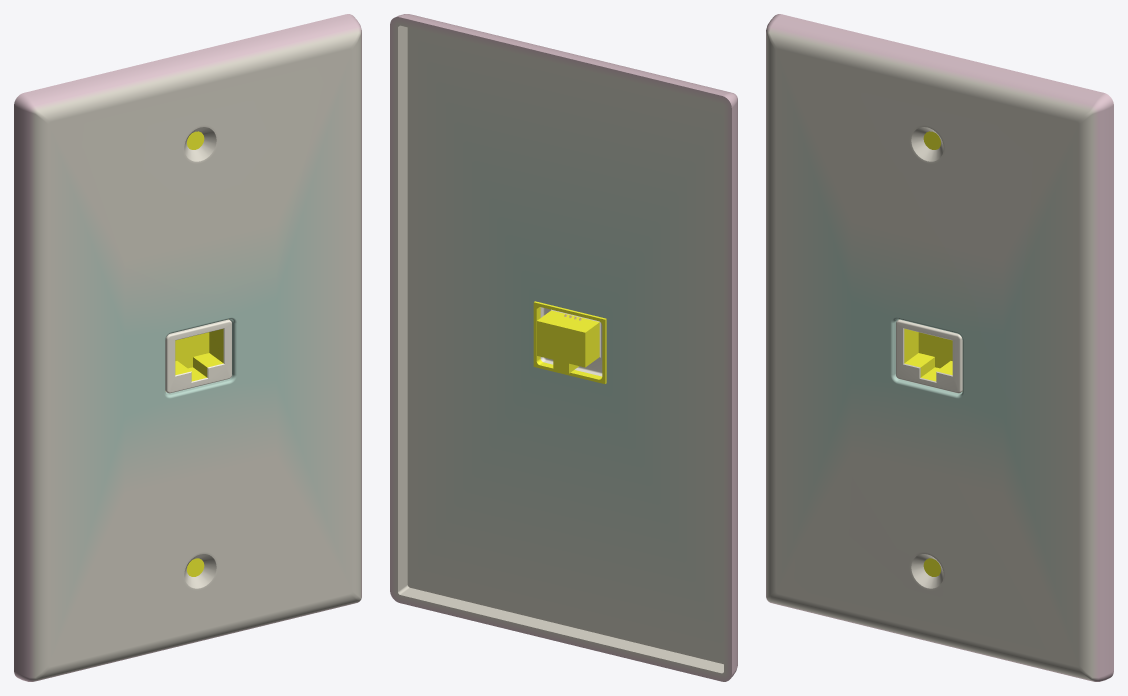
File: Kit_JackPhone.fbx
3 renders of one model, left to right at view 1: azimuth 30°, elevation 25°; view 2: azimuth 150°, elevation 25°; view 3: azimuth 330°, elevation 25°, orthographic.
Parts seen in each view (by area): view 1: Kit_JackPhone_LOD0; view 2: Kit_JackPhone_LOD0; view 3: Kit_JackPhone_LOD0.
Part boxes in pixels (left/top/right/bottom): Kit_JackPhone_LOD0: left=14, top=14, right=361, bottom=681; Kit_JackPhone_LOD0: left=390, top=14, right=737, bottom=681; Kit_JackPhone_LOD0: left=766, top=14, right=1113, bottom=681.
Size of what is drawn, in the model's own units: 0.0698 by 0.1143 by 0.00559.
